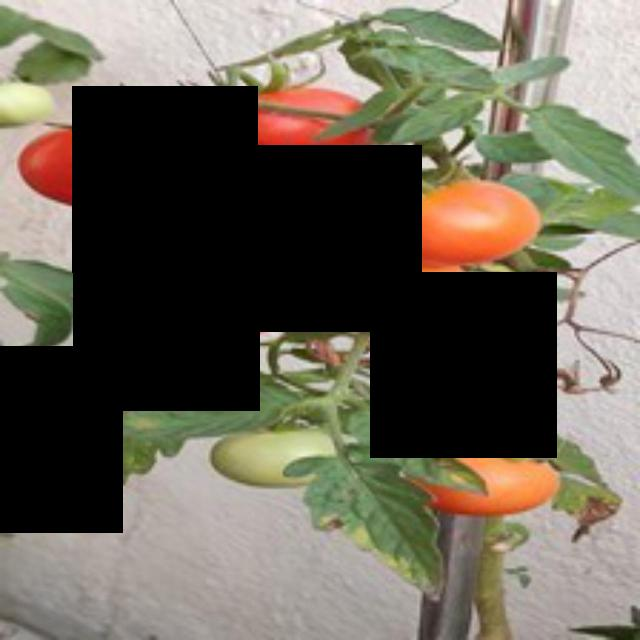tomato: (111, 236, 320, 356), (350, 162, 550, 275)
